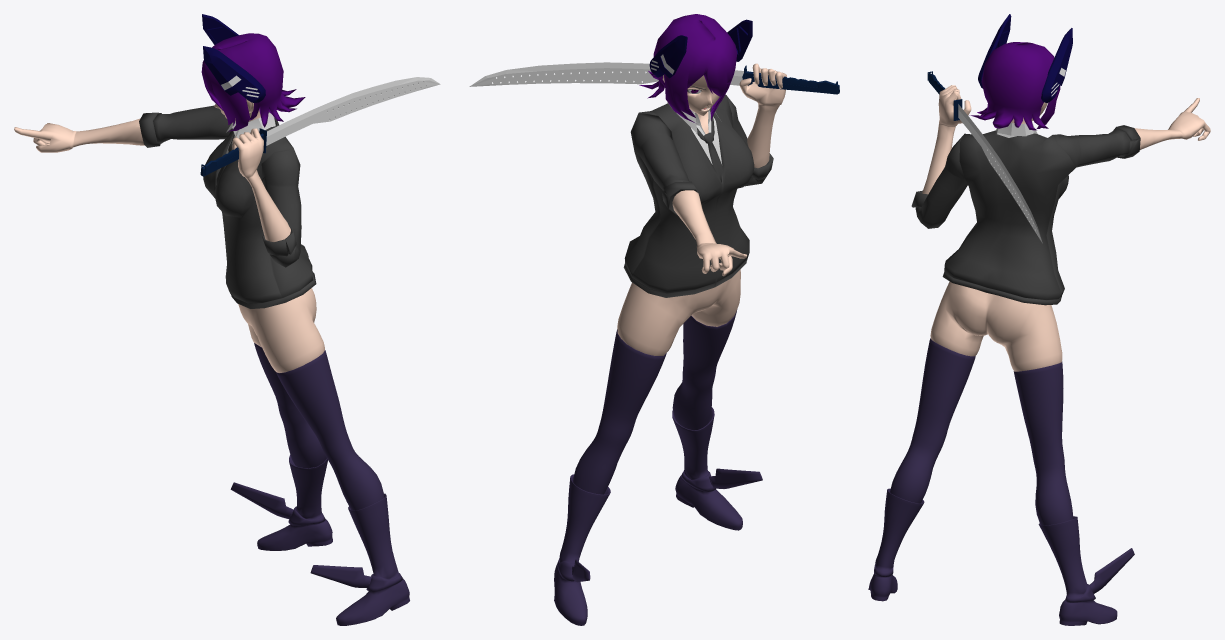
Rendered from light-cruiser-tenryuu.obj.
3 renders of one model, left to right at view 1: azimuth 30°, elevation 25°; view 2: azimuth 150°, elevation 25°; view 3: azimuth 270°, elevation 25°, orthographic. The views are drawn at different scales.
Parts seen in each view (by area): view 1: 3DSMesh_13_6, 3DSMesh_1_1, 3DSMesh_2_1, 3DSMesh_10_4, 3DSMesh_14_6, 3DSMesh_18_9, 3DSMesh_11_5, 3DSMesh_19_9; view 2: 3DSMesh_13_6, 3DSMesh_1_1, 3DSMesh_14_6, 3DSMesh_10_4, 3DSMesh_2_1, 3DSMesh_18_9, 3DSMesh_11_5, 3DSMesh_19_9, 3DSMesh_7_2, 3DSMesh_3_1; view 3: 3DSMesh_1_1, 3DSMesh_13_6, 3DSMesh_14_6, 3DSMesh_10_4, 3DSMesh_2_1, 3DSMesh_11_5, 3DSMesh_18_9.
Part boxes in pixels (x1,y1,x2,y2): 3DSMesh_13_6: (230, 343, 409, 625); 3DSMesh_1_1: (139, 105, 316, 308); 3DSMesh_2_1: (14, 118, 290, 241); 3DSMesh_10_4: (201, 33, 305, 131); 3DSMesh_14_6: (238, 288, 324, 372); 3DSMesh_18_9: (266, 77, 440, 145); 3DSMesh_11_5: (202, 14, 265, 102); 3DSMesh_19_9: (200, 128, 266, 176); 3DSMesh_13_6: (554, 309, 762, 625); 3DSMesh_1_1: (623, 94, 773, 297); 3DSMesh_14_6: (617, 269, 740, 355); 3DSMesh_10_4: (639, 14, 737, 122); 3DSMesh_2_1: (672, 63, 786, 276); 3DSMesh_18_9: (469, 62, 743, 86); 3DSMesh_11_5: (649, 19, 752, 78); 3DSMesh_19_9: (742, 65, 839, 94); 3DSMesh_7_2: (662, 75, 719, 133); 3DSMesh_3_1: (667, 102, 721, 164); 3DSMesh_1_1: (911, 125, 1140, 305); 3DSMesh_13_6: (868, 338, 1134, 625); 3DSMesh_14_6: (930, 281, 1062, 371); 3DSMesh_10_4: (969, 42, 1060, 130); 3DSMesh_2_1: (922, 85, 1210, 194); 3DSMesh_11_5: (978, 14, 1072, 103); 3DSMesh_18_9: (958, 104, 1042, 243).
Size of the model in its own units: 0.8562 by 1.34 by 0.7556.
